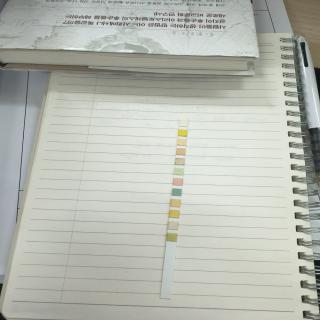mark: (170, 199, 181, 207), (172, 178, 183, 186), (167, 233, 177, 241), (168, 222, 178, 230), (169, 210, 179, 218), (172, 188, 182, 196), (175, 158, 185, 165), (175, 148, 185, 155), (174, 168, 183, 175), (179, 120, 188, 127), (178, 130, 188, 136), (177, 139, 186, 145)
